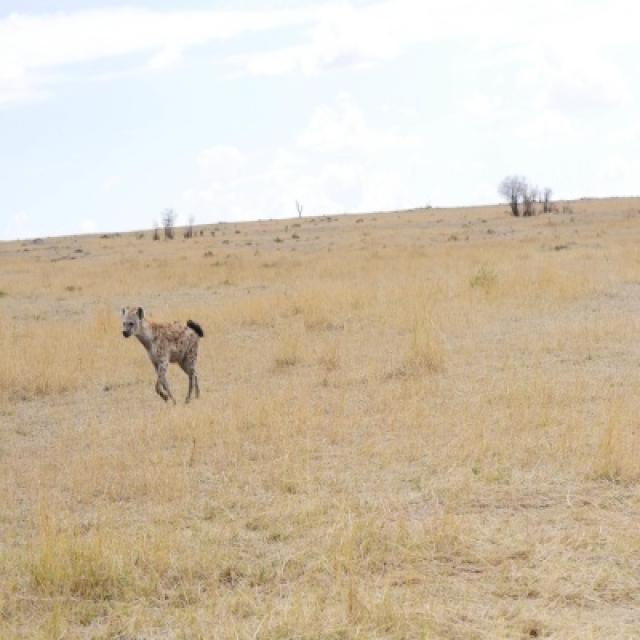hyena: (118, 309, 203, 402)
